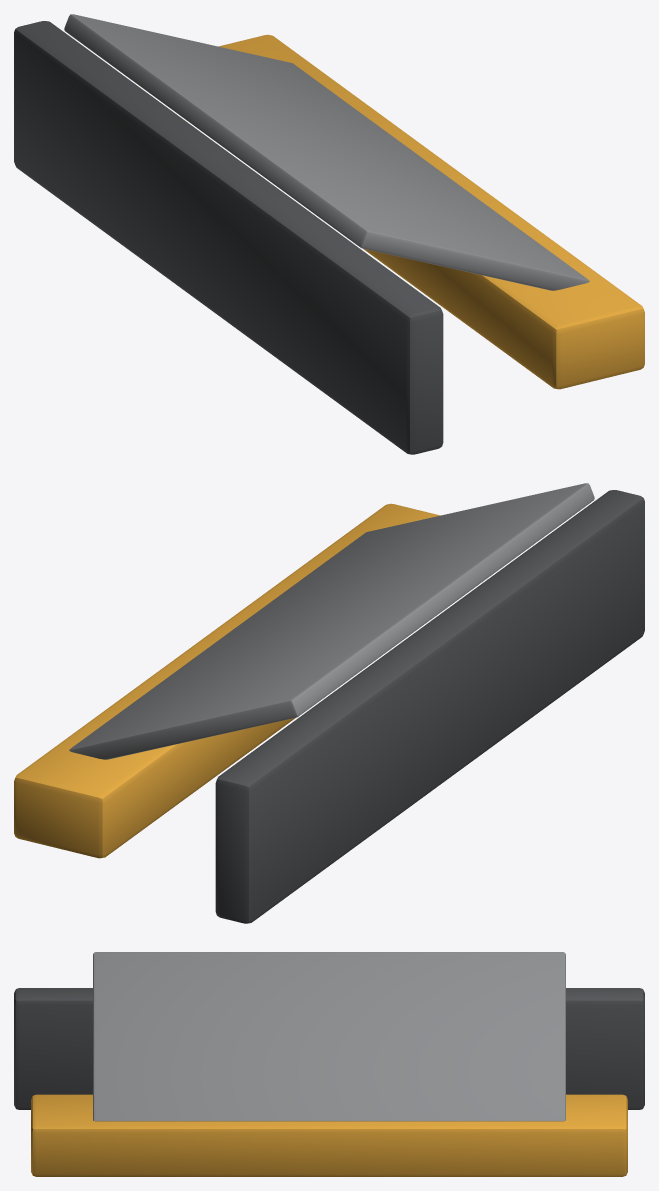
The model's file is acc_riser.glb.
The picture shows the model from 3 angles, top to bottom: view 1: azimuth 30°, elevation 25°; view 2: azimuth 150°, elevation 25°; view 3: azimuth 270°, elevation 25°; orthographic projection. The views are drawn at different scales.
Parts seen in each view (by area): view 1: Acc_Riser; view 2: Acc_Riser; view 3: Acc_Riser.
Part boxes in pixels (x1=…): Acc_Riser: x1=14, y1=14, x2=644, y2=454; Acc_Riser: x1=14, y1=483, x2=644, y2=923; Acc_Riser: x1=14, y1=952, x2=644, y2=1176.
Bounding box in the file's own units: 0.405 × 0.2924 × 1.12.
